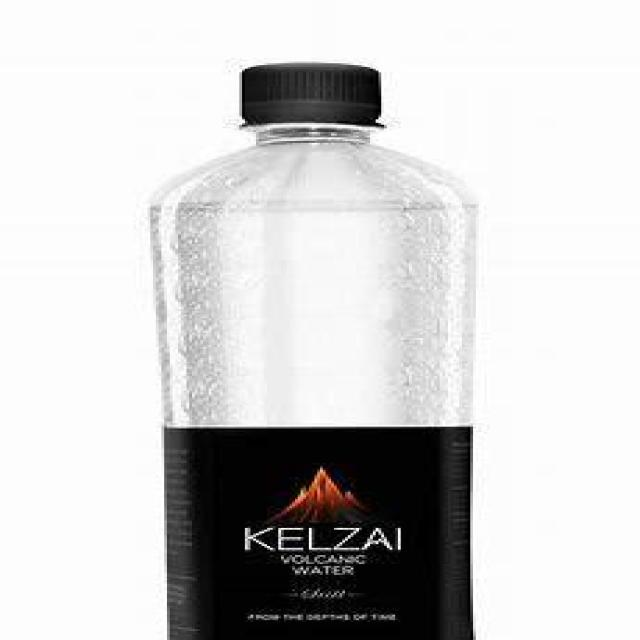bottle: (135, 48, 486, 635)
